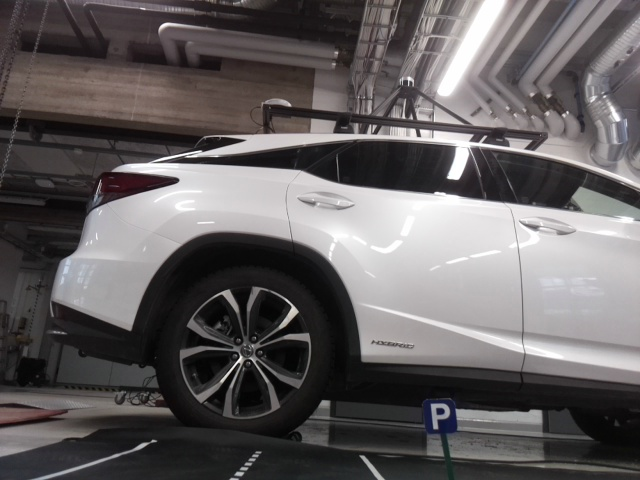Parking: (422, 399, 455, 434)
